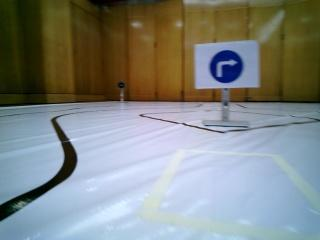right: (198, 46, 253, 84)
